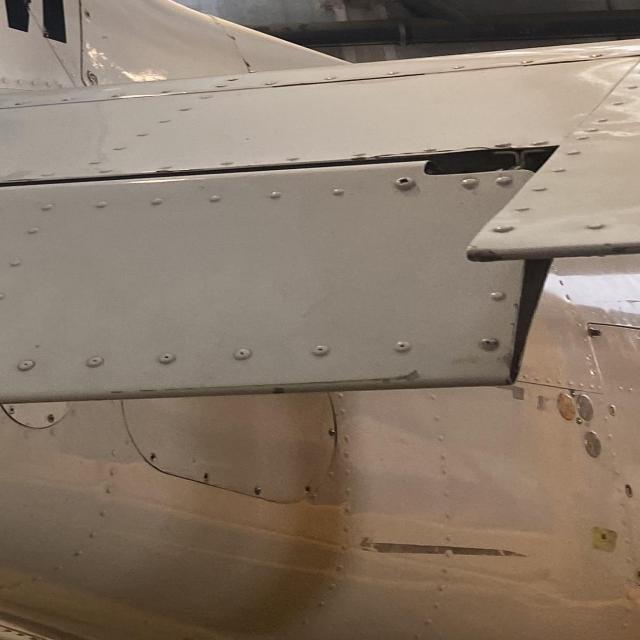Crack: (142, 168, 206, 174), (2, 179, 33, 182)
Paint-off: (609, 243, 640, 255), (402, 368, 424, 381)
